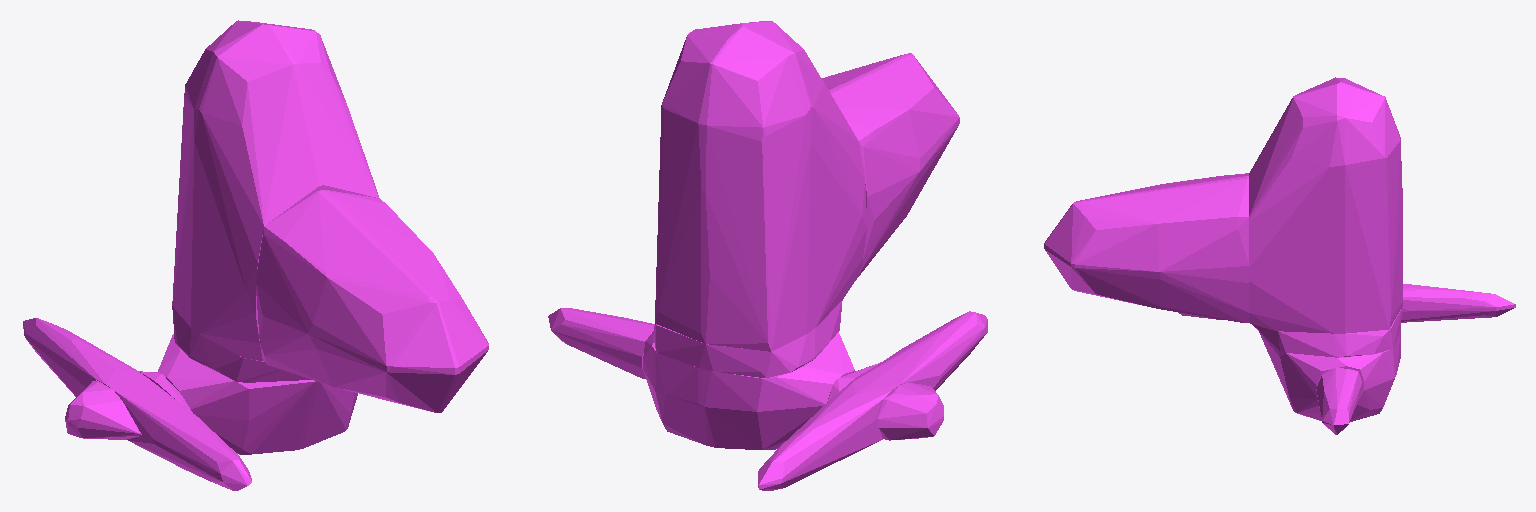
URDF robot description (blob042):
<robot name="blob042">
  <link name="random_obj_042">
    <contact>
      <lateral_friction value="1.0"/>
      <rolling_friction value="0.0"/>
      <inertia_scaling value="3.0"/>
      <contact_cfm value="0.0"/>
      <contact_erp value="1.0"/>
    </contact>
    <inertial>
      <origin rpy="0 0 0" xyz="0 0 0"/>
      <mass value="0.1"/>
      <inertia ixx="1" ixy="0" ixz="0" iyy="1" iyz="0" izz="0"/>
    </inertial>
    <visual>
      <origin rpy="0 0 0" xyz="0 0 0"/>
      <geometry>
        <mesh filename="042.obj" scale="0.015 0.015 0.015"/>
      </geometry>
      <material name="blockmat">
        <color rgba="0.99 0.38 0.99 1"/>
      </material>
    </visual>
    <collision>
      <origin rpy="0 0 0" xyz="0 0 0"/>
      <geometry>
        <mesh filename="042.obj" scale="0.015 0.015 0.015"/>
      </geometry>
    </collision>
  </link>
</robot>

--- What the picture shows (computed from the rendered views, not written in the file) ---
3 views of the same robot in one strip: view 1: azimuth 30°, elevation 25°; view 2: azimuth 150°, elevation 25°; view 3: azimuth 270°, elevation 25° (orthographic).
Robot: blob042 — 1 links, 0 joints (none); root link random_obj_042; default pose: every joint at zero.
Visible links, largest first — view 1: random_obj_042; view 2: random_obj_042; view 3: random_obj_042.
Boxes of the visible links, x1=… form: random_obj_042: x1=23, y1=20, x2=488, y2=490; random_obj_042: x1=548, y1=21, x2=987, y2=490; random_obj_042: x1=1044, y1=77, x2=1515, y2=434.
Bounding box of the posed robot: 0.0912 × 0.1199 × 0.0916 m (x, y, z).
1 mesh visuals loaded from 1 distinct referenced files (1 OBJ).